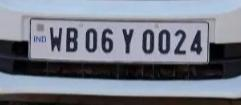0: (83, 25, 100, 54), (141, 26, 156, 56), (156, 26, 171, 56)
2: (173, 26, 187, 57)
4: (189, 26, 205, 57)
6: (100, 25, 115, 56)
B: (64, 24, 80, 55)
W: (48, 24, 63, 55)
Y: (121, 24, 137, 57)
